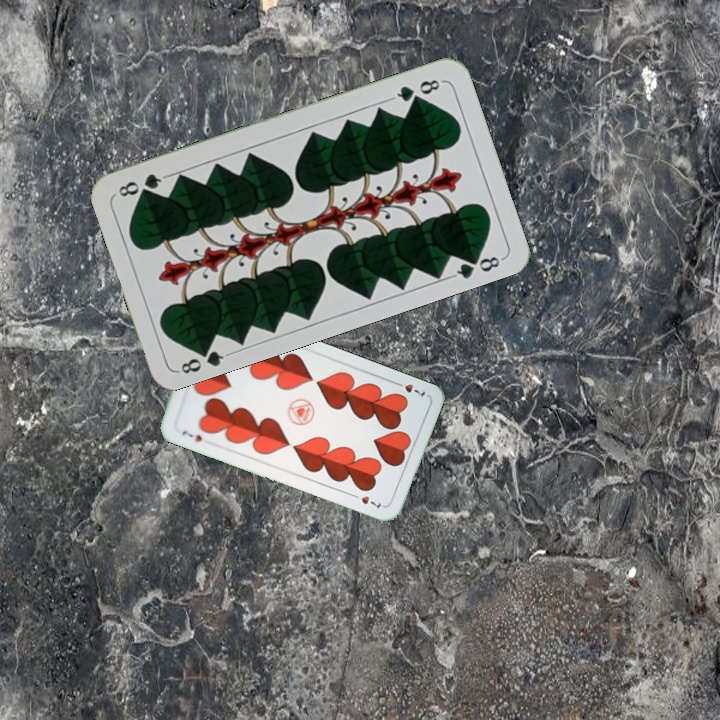G8: (175, 341, 232, 377), (388, 75, 445, 104)
H7: (390, 378, 428, 400), (178, 426, 205, 445)
